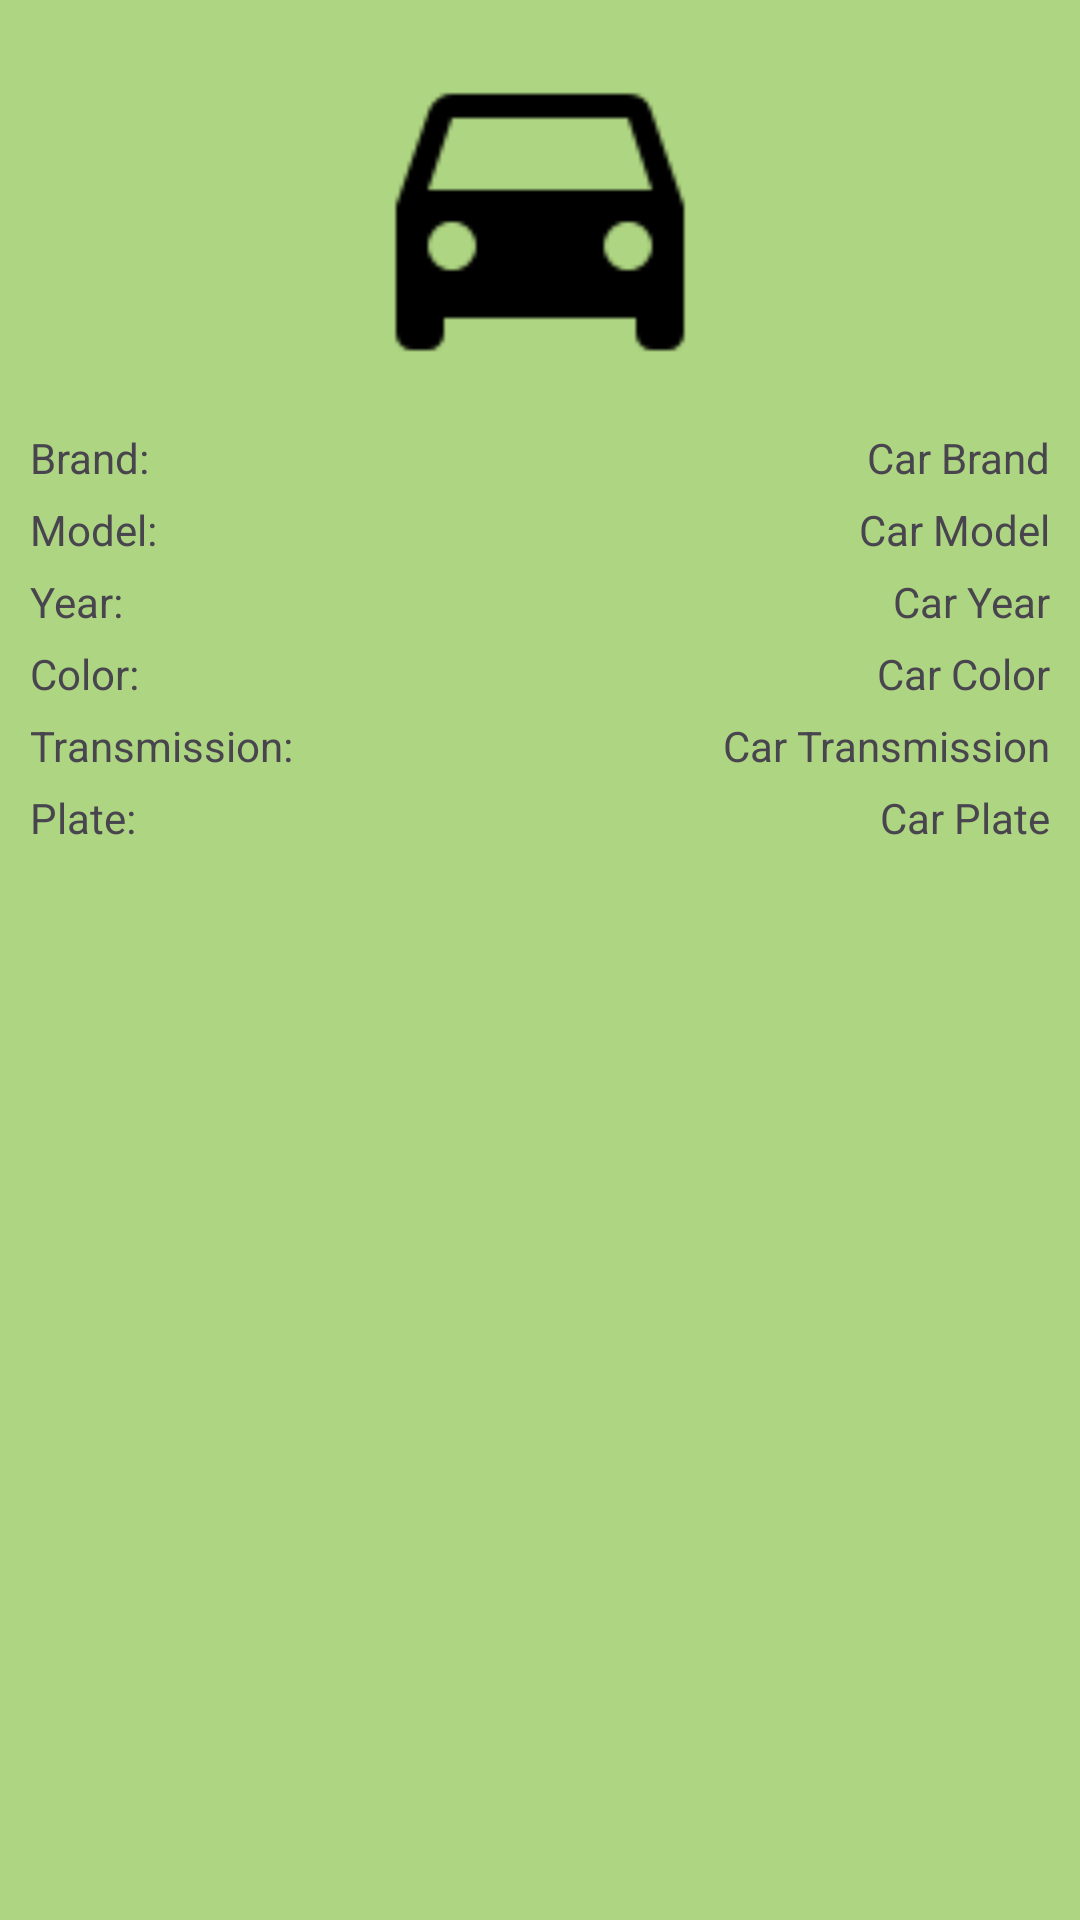

Where icons sit on this 1080px x 1920px app screen, as detection(x1, y1, x2, y2):
cars: detection(394, 92, 686, 352)
